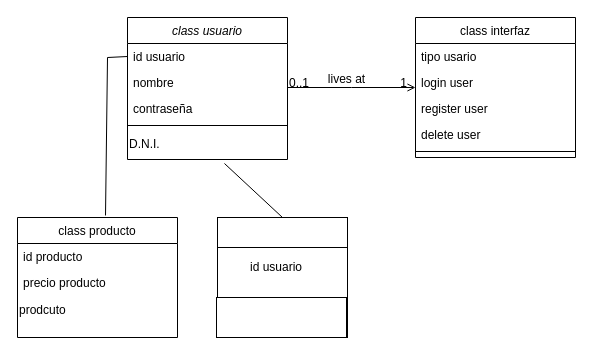
Image size: 593x363. Some labels were removed from this diagram. Each missing label, with the centre of its shape:
class venta: the point at 282,232
tipo de usuario: the point at 281,317
